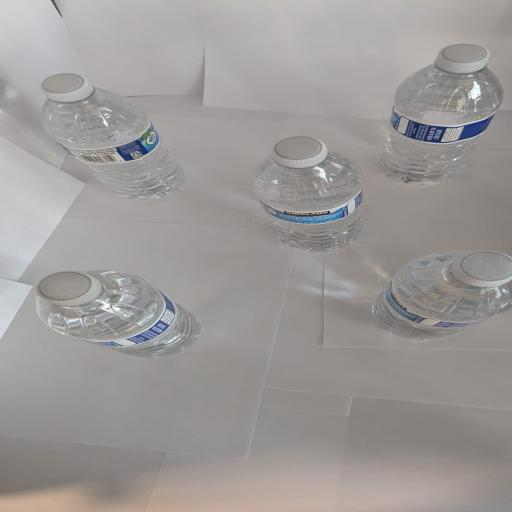waterbottle: (42, 74, 184, 199), (382, 44, 502, 183), (37, 271, 200, 356), (253, 137, 363, 250), (373, 251, 511, 339)
